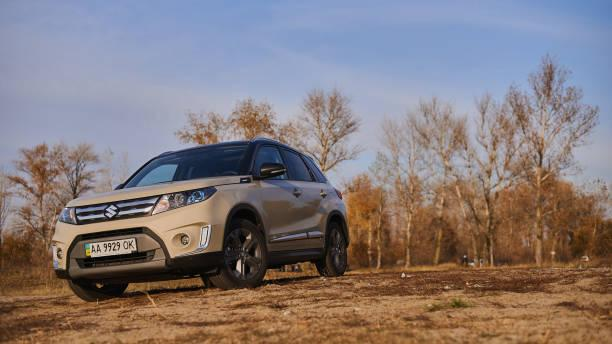suzuki: (104, 203, 124, 221)
